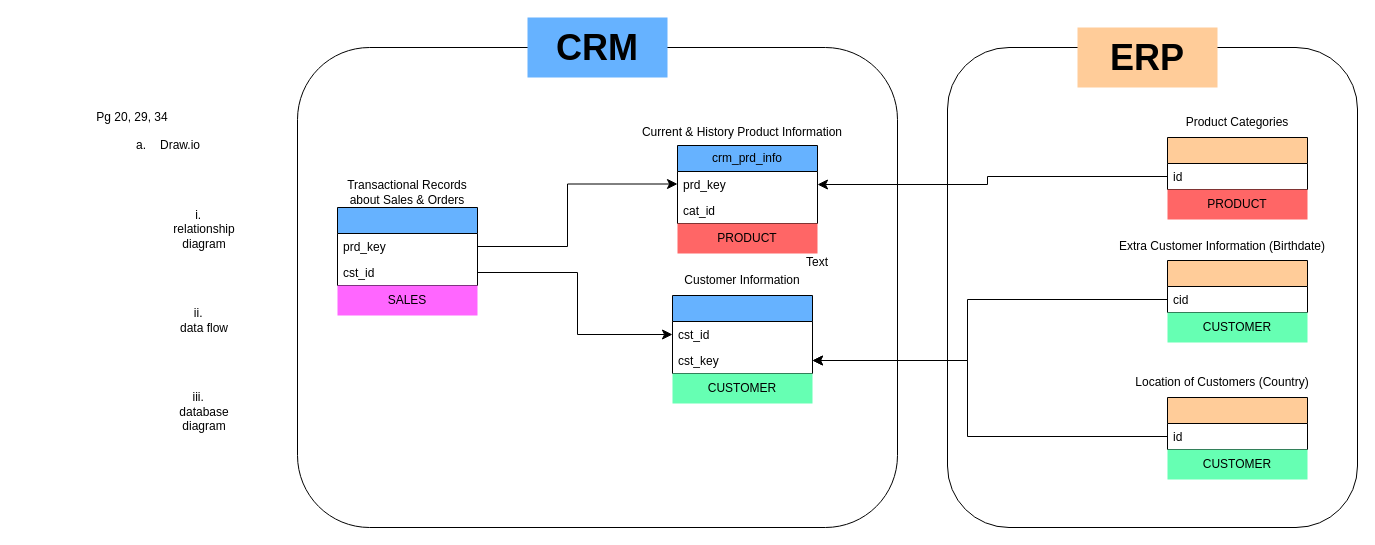
The diagram is 1375 pixels wide and 545 high, and some of its shapes have lost their labels. The box of each missing label's shape, as (x1, y1, x2, y2) in pixels:
crm_cust_info: (672, 294, 812, 374)
crm_sales_details: (336, 206, 478, 286)
erp_cust_az12: (1166, 260, 1308, 312)
erp_loc_a101: (1166, 396, 1308, 450)
erp_px_cat_g1v2: (1166, 136, 1308, 190)
